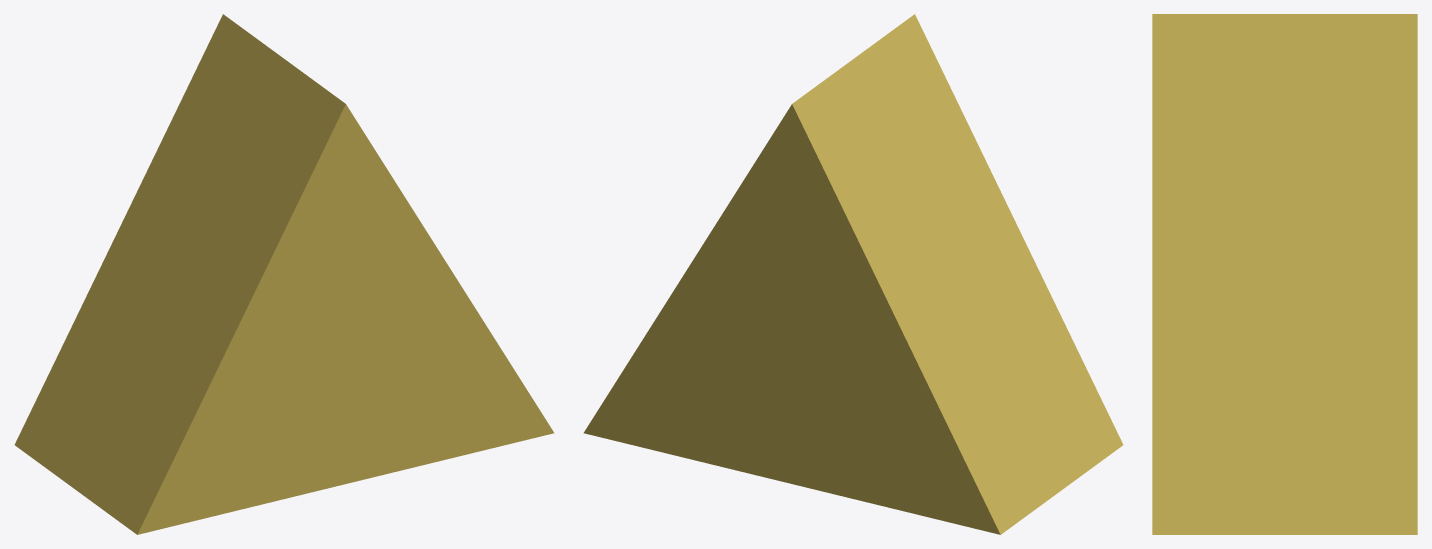
Rendered from Tris.fbx.
3 renders of one model, left to right at view 1: azimuth 30°, elevation 25°; view 2: azimuth 150°, elevation 25°; view 3: azimuth 270°, elevation 25°, orthographic. The views are drawn at different scales.
Parts seen in each view (by area): view 1: Tris; view 2: Tris; view 3: Tris.
Part boxes in pixels (x1,y1,x2,y2): Tris: [14, 14, 554, 534]; Tris: [583, 14, 1123, 534]; Tris: [1152, 14, 1417, 534].
Size of the model in its own units: 31.11 by 27.09 by 15.87.
